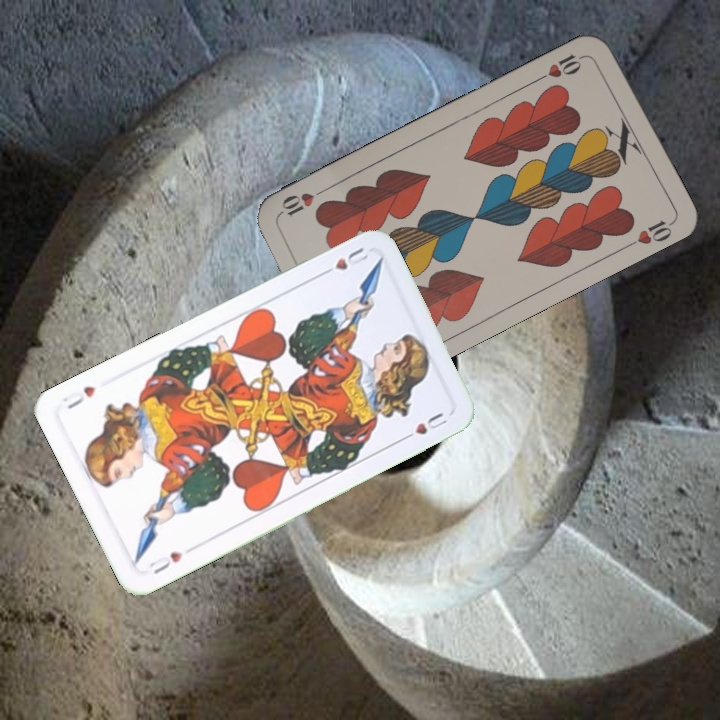H10: (534, 49, 589, 84)
HU: (316, 243, 371, 279), (145, 548, 185, 577)
